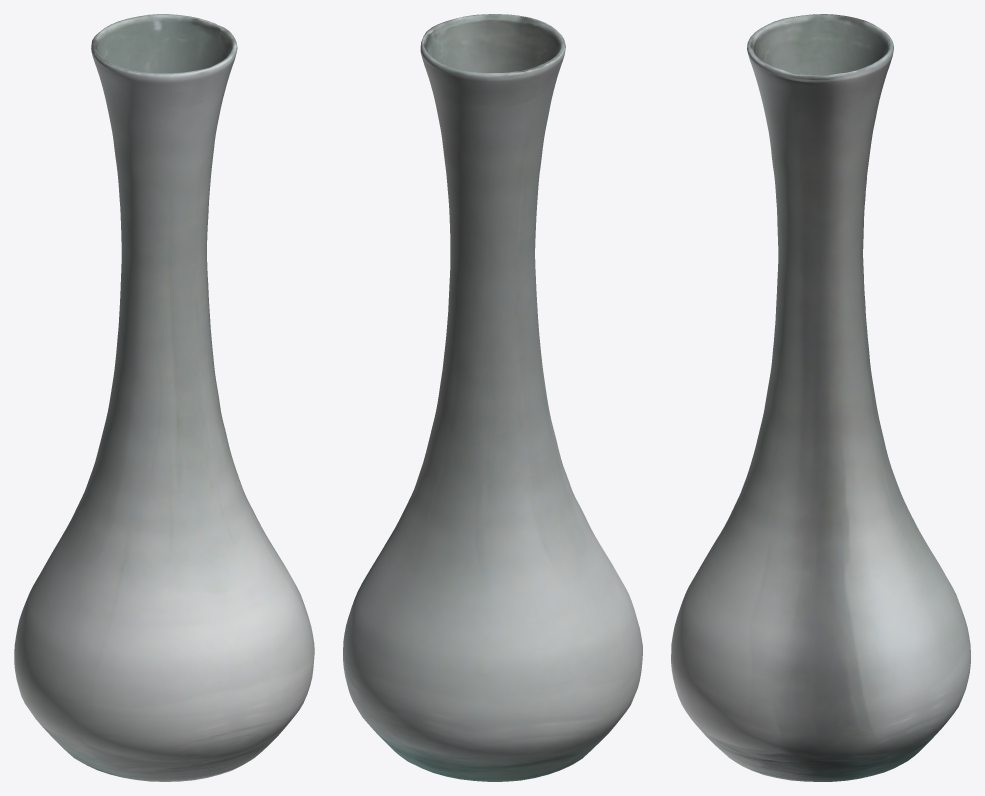
File: vase_en_verre_transpa_0203182540_texture.fbx
3 renders of one model, left to right at view 1: azimuth 30°, elevation 25°; view 2: azimuth 150°, elevation 25°; view 3: azimuth 270°, elevation 25°, orthographic.
Parts seen in each view (by area): view 1: Mesh1_Mesh1.062; view 2: Mesh1_Mesh1.062; view 3: Mesh1_Mesh1.062.
Part boxes in pixels (box(x1,y1,x2,y2)): Mesh1_Mesh1.062: box(14, 14, 314, 781); Mesh1_Mesh1.062: box(343, 14, 642, 781); Mesh1_Mesh1.062: box(671, 14, 970, 781).
Bounding box in the file's own units: 78.4 × 200 × 77.88.
1 material, 1 textured.
